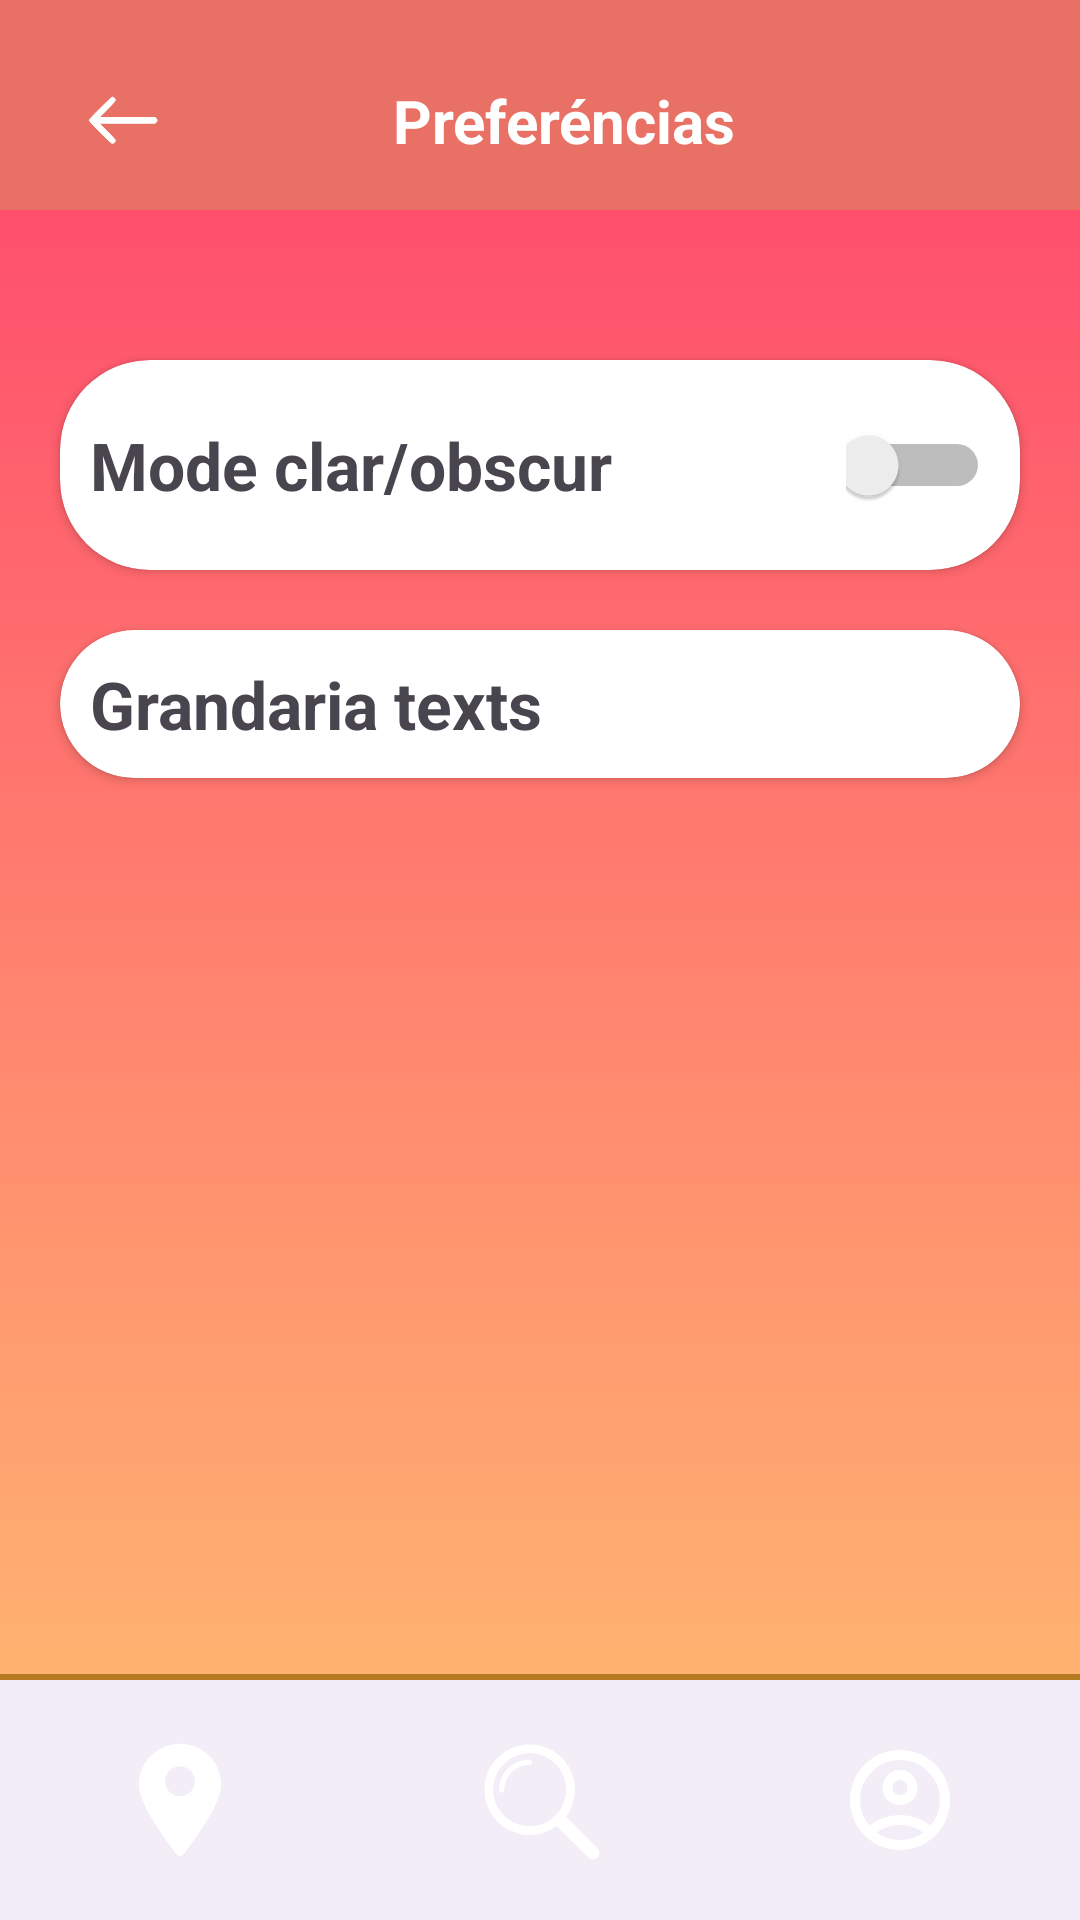

Screen size 1080×1920. Icon name, then its box in pixels as detection(x1, y1, x2, y2):
Tornar enrere: detection(89, 96, 158, 144)
